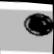correct: (22, 10, 54, 40)
